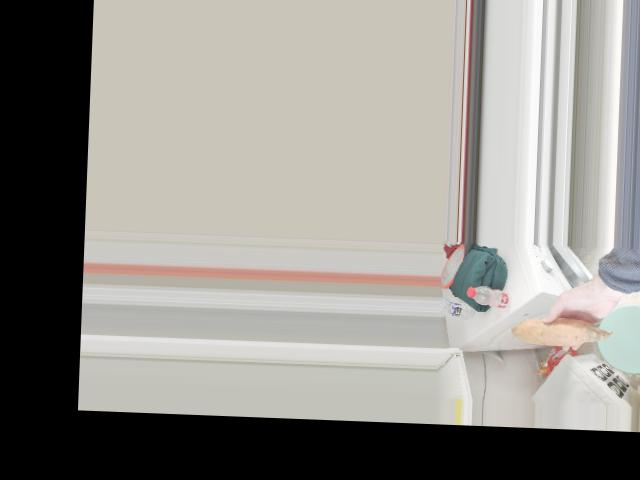sweet_potato: (524, 318, 599, 343)
